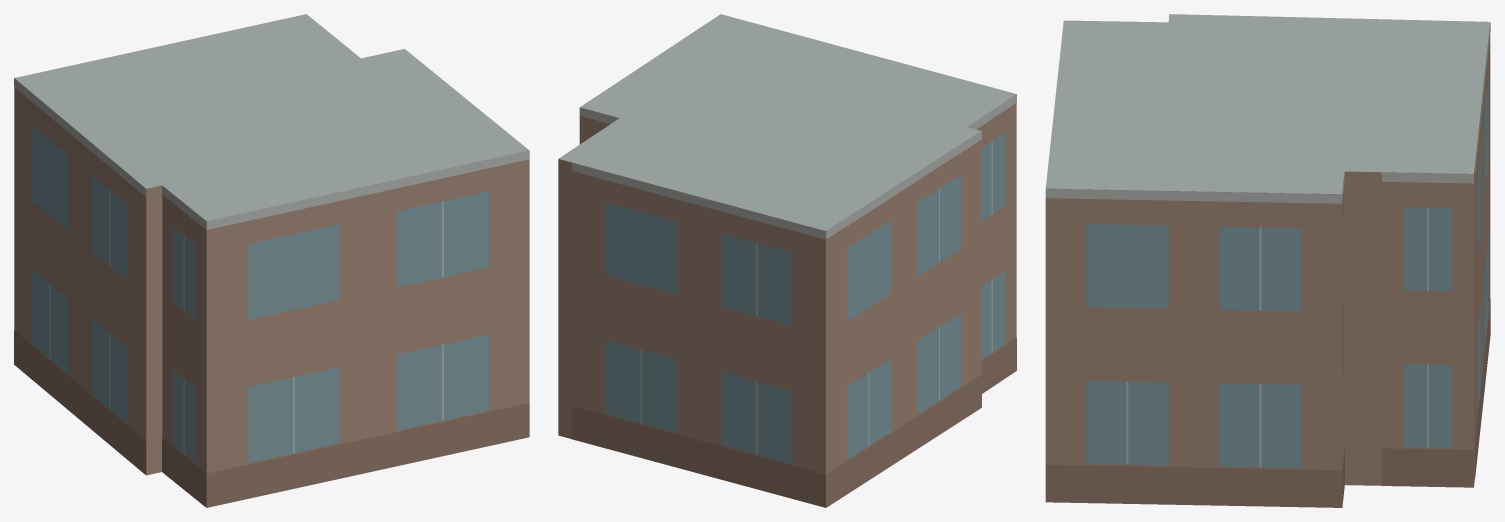
File: survey-upis-32632397.glb
3 views of the same model, side by side, from view 1: azimuth 30°, elevation 25°; view 2: azimuth 150°, elevation 25°; view 3: azimuth 270°, elevation 25° (orthographic). The views are drawn at different scales.
Visible parts, largest first — view 1: survey-upis-32632397.tmp; view 2: survey-upis-32632397.tmp; view 3: survey-upis-32632397.tmp.
Part boxes in pixels (x1,y1,x2,y2): survey-upis-32632397.tmp: (14, 14, 529, 507); survey-upis-32632397.tmp: (558, 14, 1016, 507); survey-upis-32632397.tmp: (1045, 14, 1490, 507).
Bounding box in the file's own units: 9.81 × 7.95 × 10.23.
